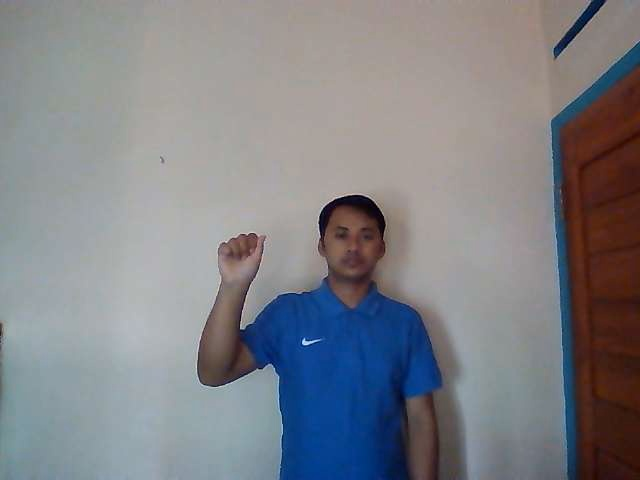A: (216, 232, 267, 286)
